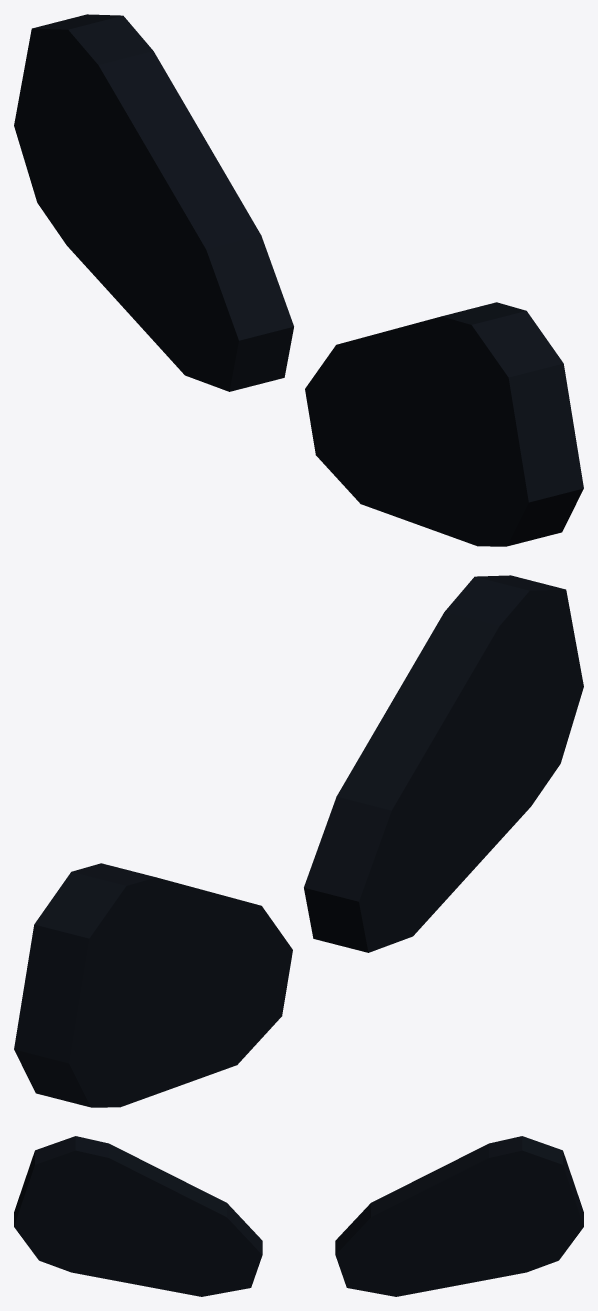
File: BIG EYEBROWS.fbx
The picture shows the model from 3 angles, top to bottom: view 1: azimuth 30°, elevation 25°; view 2: azimuth 150°, elevation 25°; view 3: azimuth 270°, elevation 25°; orthographic projection. The views are drawn at different scales.
Parts seen in each view (by area): view 1: BIG_EYEBROWS; view 2: BIG_EYEBROWS; view 3: BIG_EYEBROWS.
Part boxes in pixels (x1,y1,x2,y2): BIG_EYEBROWS: (14, 14, 583, 546); BIG_EYEBROWS: (14, 575, 583, 1107); BIG_EYEBROWS: (14, 1136, 583, 1296).
Size of the model in its own units: 1.23 by 5.33 by 18.85.
